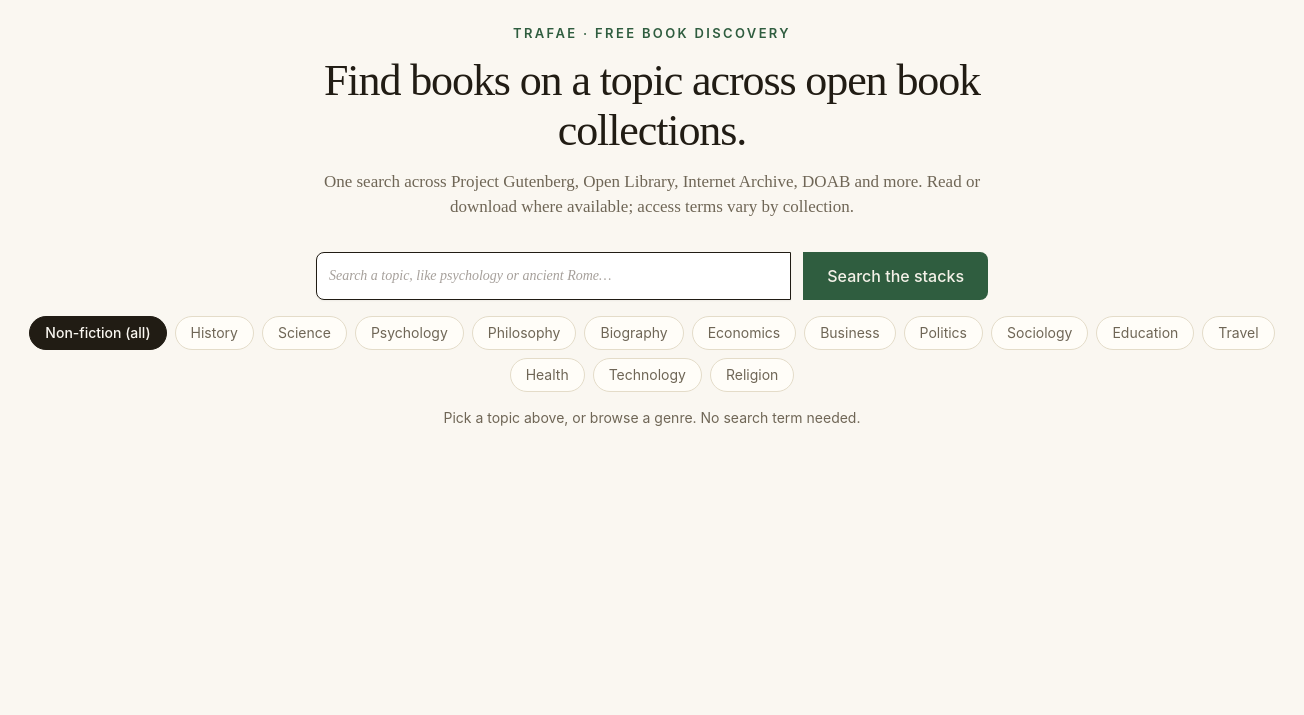
Scenario: shows empty results and lets a subsequent search recover
Step 1. Type "missing" into the field with placeholder "Search a topic, like psychology or ancient Rome…" → (554, 276), box [316,252,791,300]
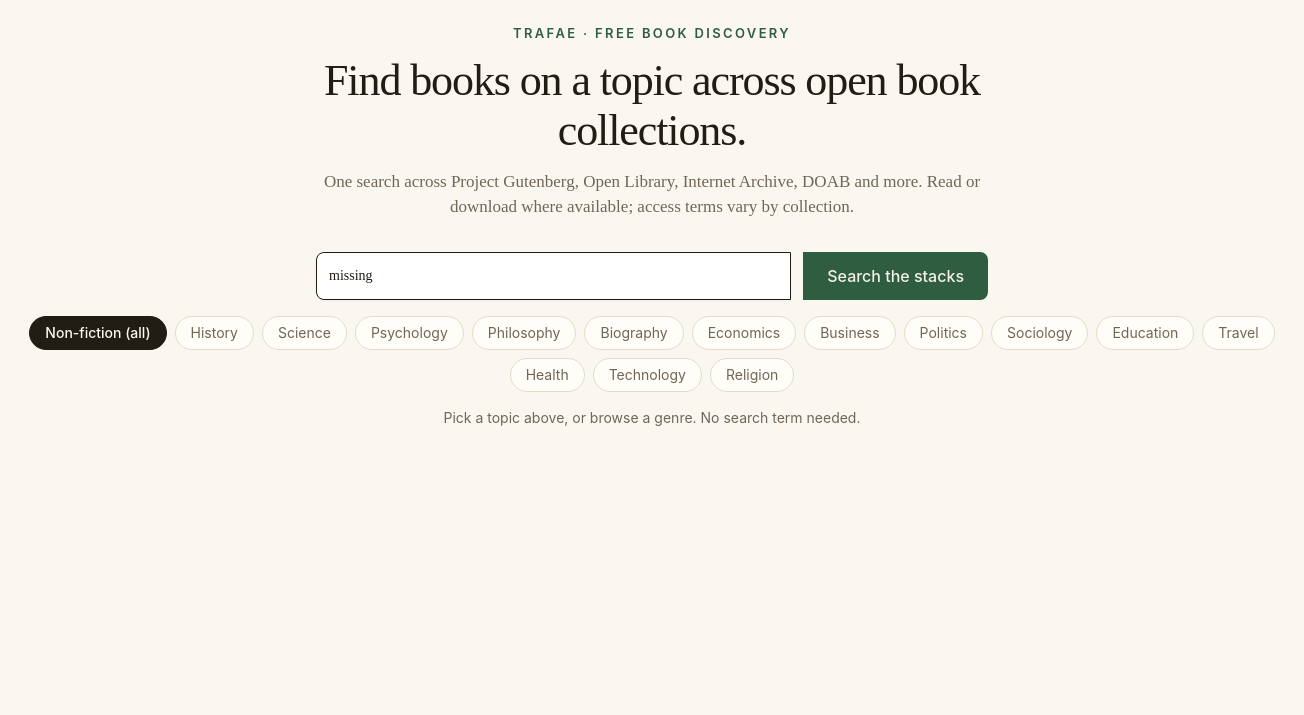
Step 2. Click the button "Search the stacks" → (896, 276), box [803,252,988,300]
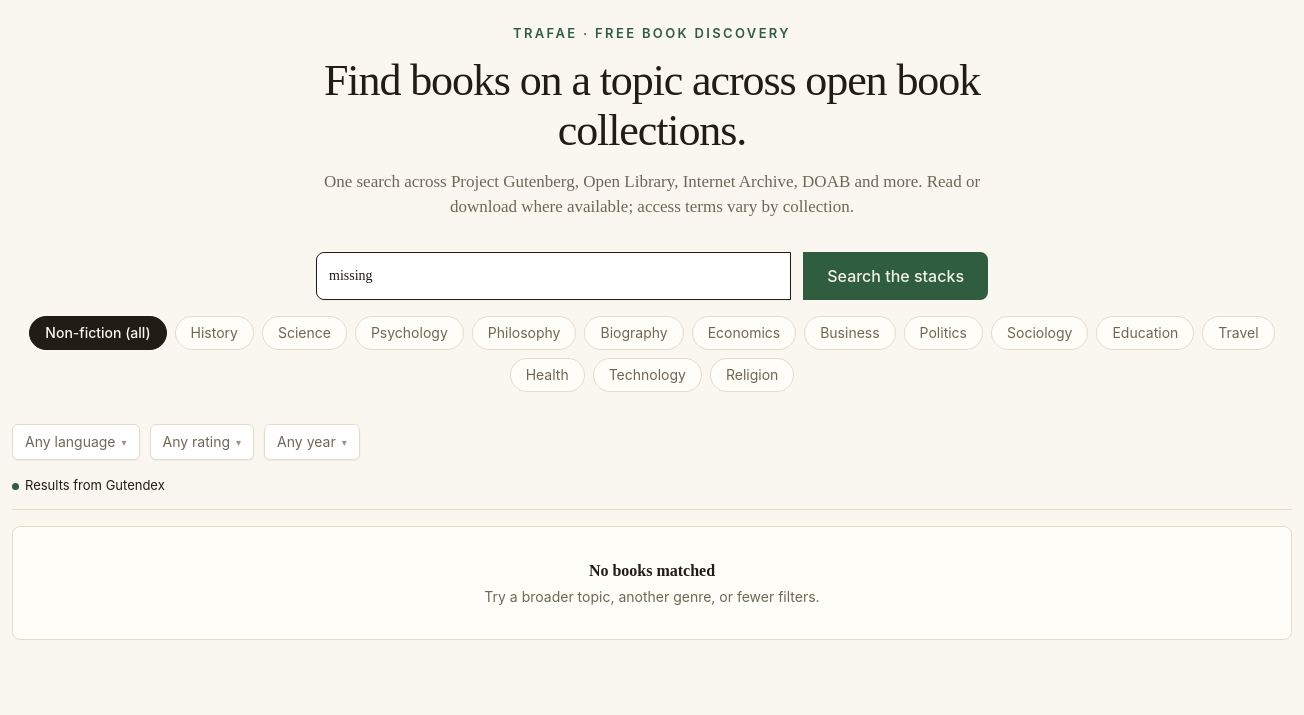
Expected: the text "No books matched" is shown, [589,562,715,579]
Step 3. Replace the text in the field with placeholder "Search a topic, like psychology or ancient Rome…" with "psychology" → (554, 276), box [316,252,791,300]
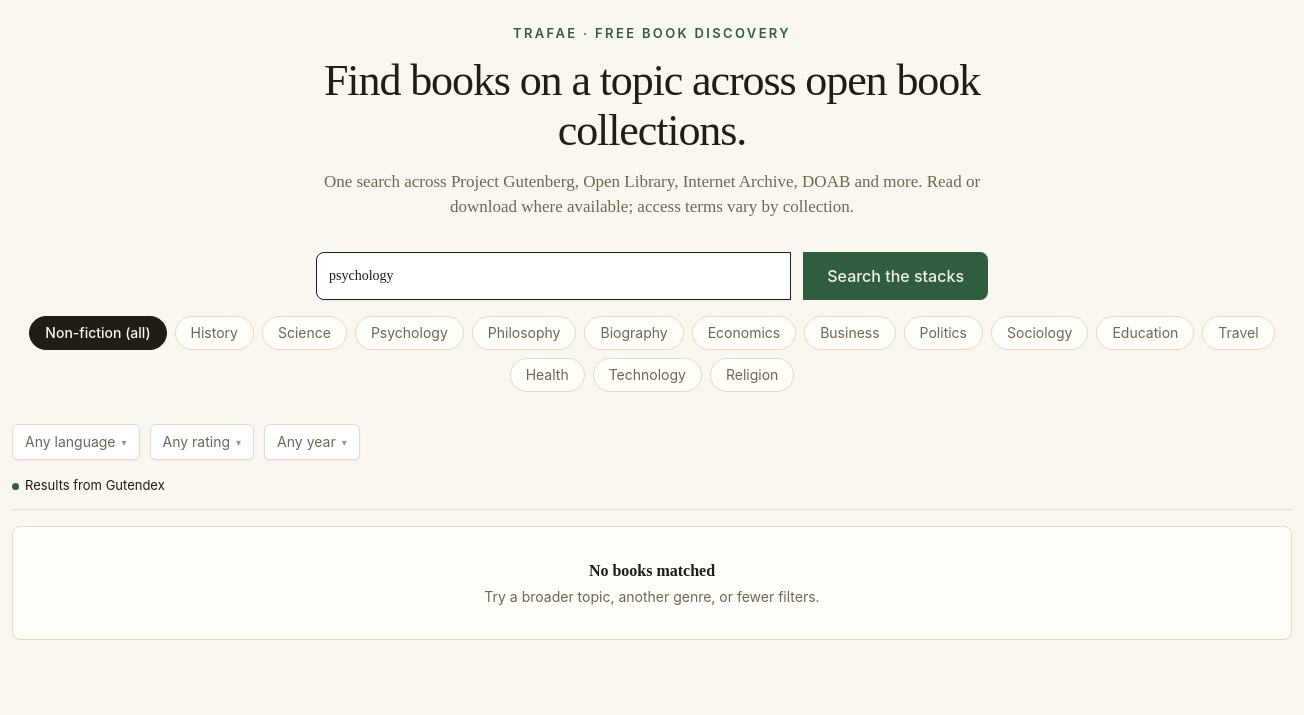
Step 4. Click the button "Search the stacks" → (896, 276), box [803,252,988,300]
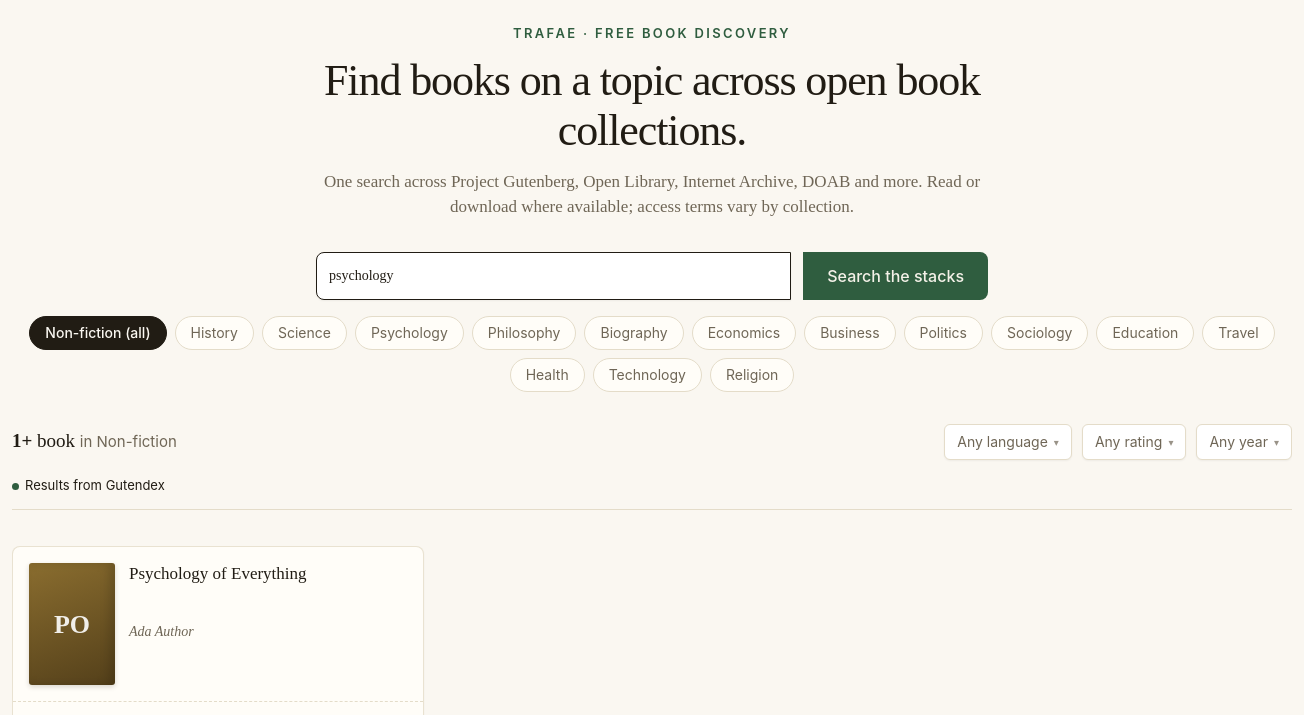
Expected: the heading "Psychology of Everything" is shown, [129,564,306,583]
